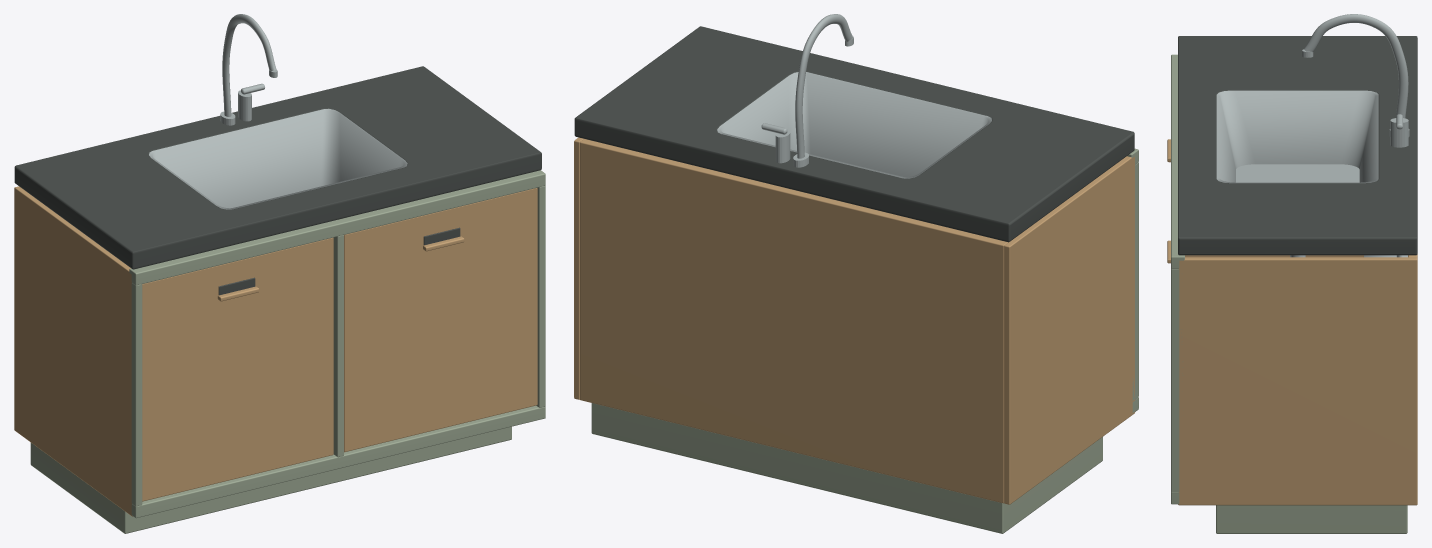
The model's file is ReusedSink.fbx.
The picture shows the model from 3 angles, left to right: view 1: azimuth 30°, elevation 25°; view 2: azimuth 150°, elevation 25°; view 3: azimuth 270°, elevation 25°; orthographic projection. The views are drawn at different scales.
Visible parts, largest first — view 1: Sink worktop, Inset door.003, Inset door.002, Cabinet side.002, Stainless basin, Recessed plinth.001, Front frame rail.003, Front frame rail.002, Front frame stile.003, Front frame stile.005, Front frame stile.004, Faucet; view 2: Cabinet back.001, Sink worktop, Cabinet side.002, Stainless basin, Recessed plinth.001, Cabinet side.003, Faucet, Front frame stile.003; view 3: Cabinet side.003, Sink worktop, Stainless basin, Recessed plinth.001, Front frame stile.004, Faucet, Front frame rail.003, Cabinet side.002, Mixer body.
Part boxes in pixels (bbox=[...]): Sink worktop: bbox=[14, 66, 541, 269]; Inset door.003: bbox=[344, 188, 537, 452]; Inset door.002: bbox=[142, 237, 333, 501]; Cabinet side.002: bbox=[14, 186, 132, 516]; Stainless basin: bbox=[149, 108, 407, 209]; Recessed plinth.001: bbox=[30, 426, 511, 533]; Front frame rail.003: bbox=[129, 170, 545, 285]; Front frame rail.002: bbox=[131, 405, 545, 518]; Front frame stile.003: bbox=[131, 283, 142, 506]; Front frame stile.005: bbox=[333, 235, 343, 457]; Front frame stile.004: bbox=[536, 185, 545, 407]; Faucet: bbox=[222, 14, 276, 116]; Cabinet back.001: bbox=[580, 139, 1008, 503]; Sink worktop: bbox=[574, 26, 1134, 242]; Cabinet side.002: bbox=[1004, 156, 1134, 504]; Stainless basin: bbox=[717, 72, 991, 178]; Recessed plinth.001: bbox=[591, 403, 1102, 533]; Cabinet side.003: bbox=[574, 137, 583, 399]; Faucet: bbox=[795, 14, 852, 158]; Front frame stile.003: bbox=[1132, 162, 1138, 400]; Cabinet side.003: bbox=[1178, 257, 1417, 505]; Sink worktop: bbox=[1178, 36, 1417, 255]; Stainless basin: bbox=[1216, 90, 1378, 183]; Recessed plinth.001: bbox=[1216, 505, 1407, 533]; Front frame stile.004: bbox=[1171, 269, 1183, 492]; Faucet: bbox=[1304, 14, 1408, 118]; Front frame rail.003: bbox=[1171, 54, 1184, 268]; Cabinet side.002: bbox=[1185, 255, 1363, 257]; Mixer body: bbox=[1390, 118, 1408, 147].
Bounding box in the file's own units: 120 × 117 × 62.65.
